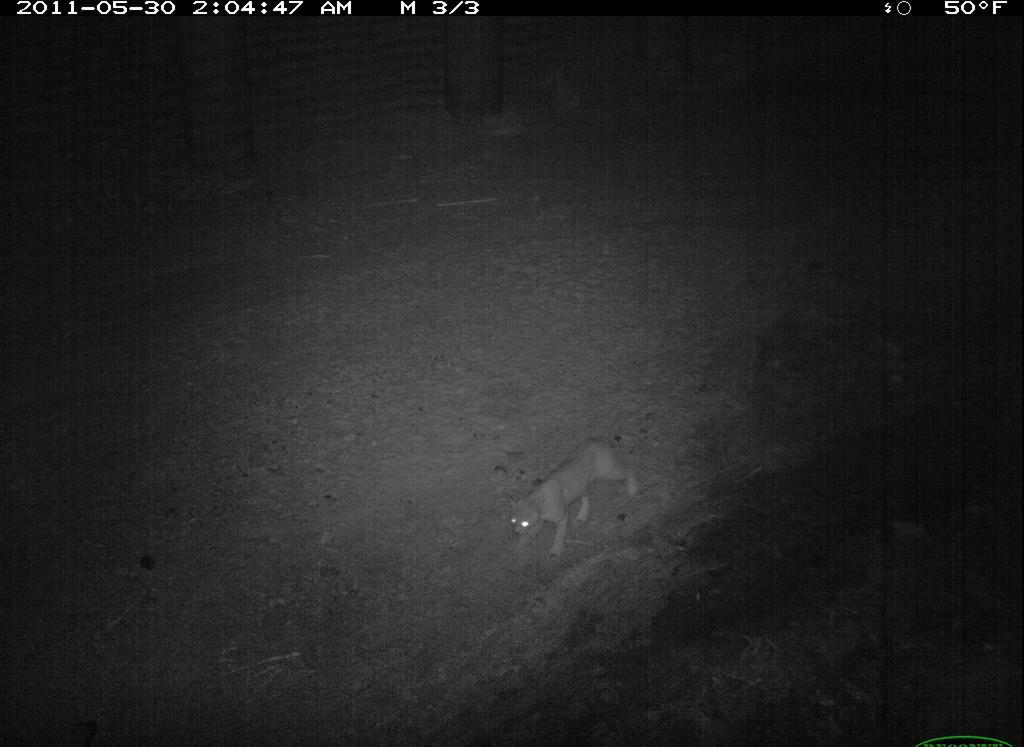bobcat: (497, 429, 647, 571)
